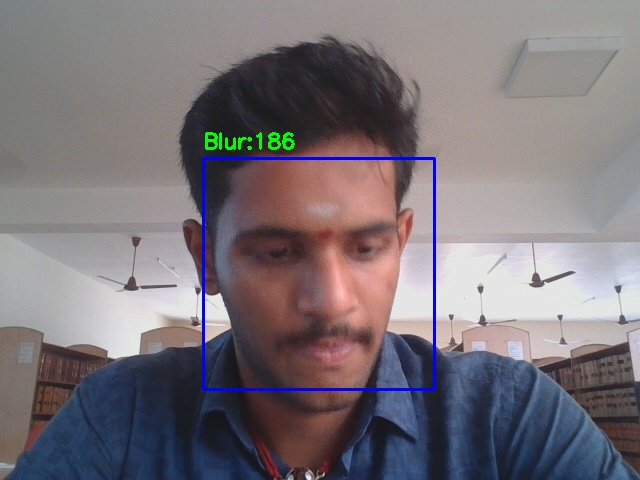real: (203, 158, 434, 389)
